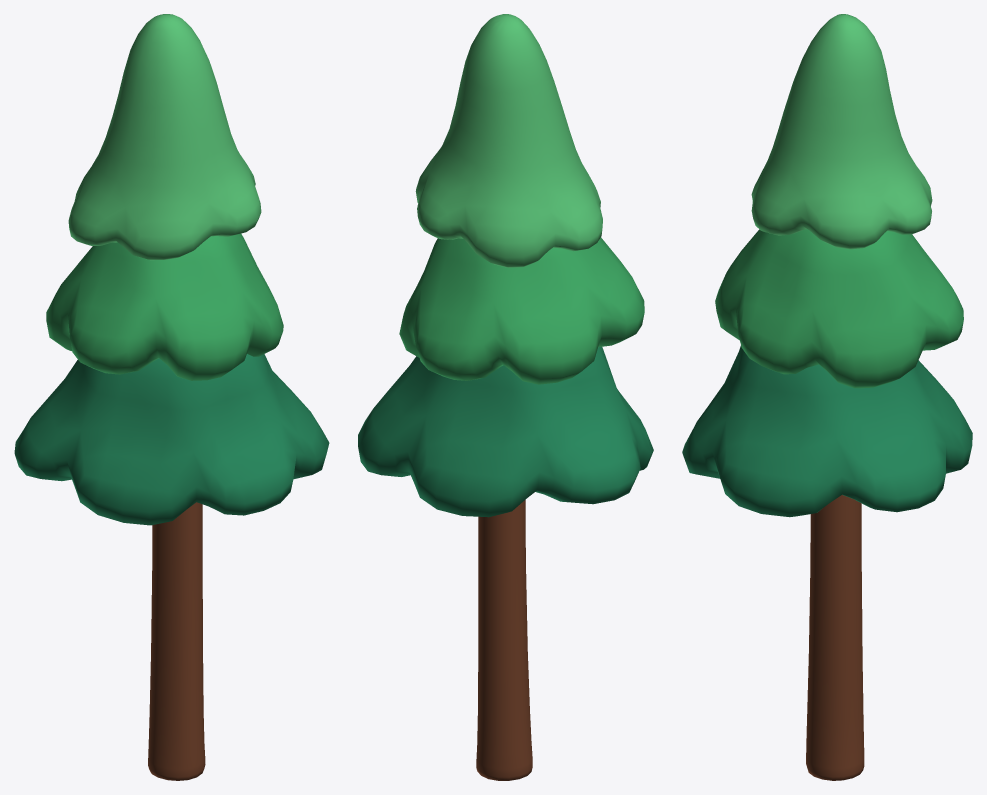
File: Conifer_06.fbx
3 views of the same model, side by side, from view 1: azimuth 30°, elevation 25°; view 2: azimuth 150°, elevation 25°; view 3: azimuth 270°, elevation 25° (orthographic).
Visible parts, largest first — view 1: Conifer_06_LOD0; view 2: Conifer_06_LOD0; view 3: Conifer_06_LOD0.
Part boxes in pixels (x1=…): Conifer_06_LOD0: x1=14, y1=14, x2=329, y2=780; Conifer_06_LOD0: x1=358, y1=14, x2=653, y2=780; Conifer_06_LOD0: x1=682, y1=14, x2=972, y2=780.
Size of what is drawn, in the model's own units: 516 by 1410 by 494.
